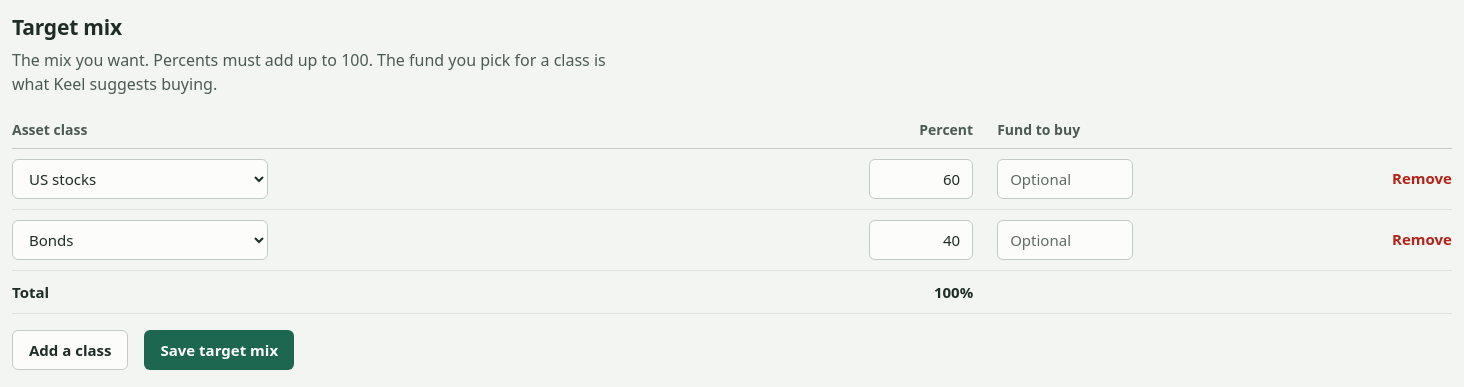
Test: TargetEditor › only lets you save when the percents add up to 100, and saves them as decimals
The width and height of the screenshot is (1464, 387).
Later steps or results of the test are not shown.
Replace the text in the field named "Percent for Bonds" with "30" at (921, 240), box [869,220,973,260]
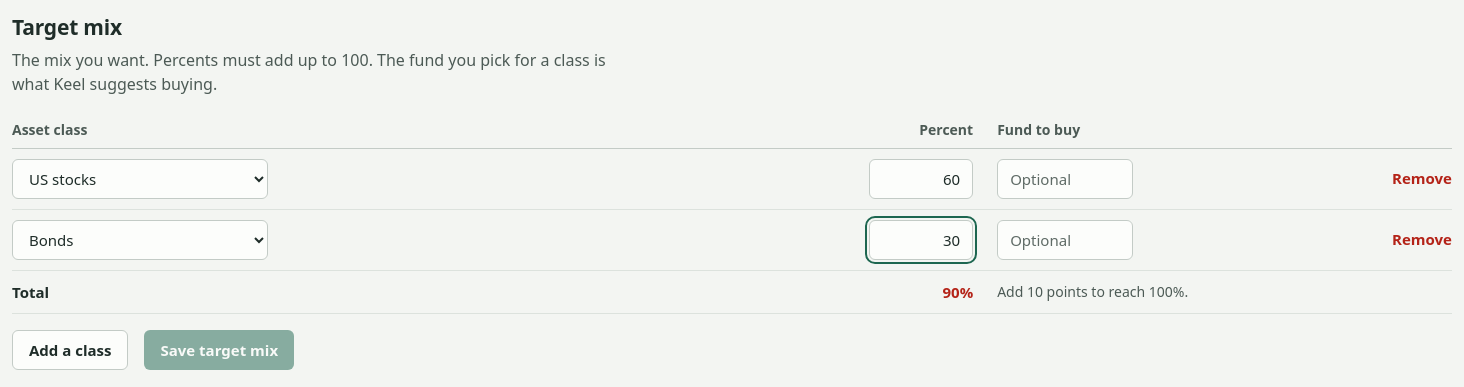
Check: the button "Save target mix" is disabled, box [144,330,294,370]
Check: the text "90%" is shown, box [857,270,985,314]
Check: the text "Add 10 points to reach 100%." is shown, box [985,270,1452,314]
Replace the text in the field named "Percent for Bonds" with "40" at (921, 240), box [869,220,973,260]
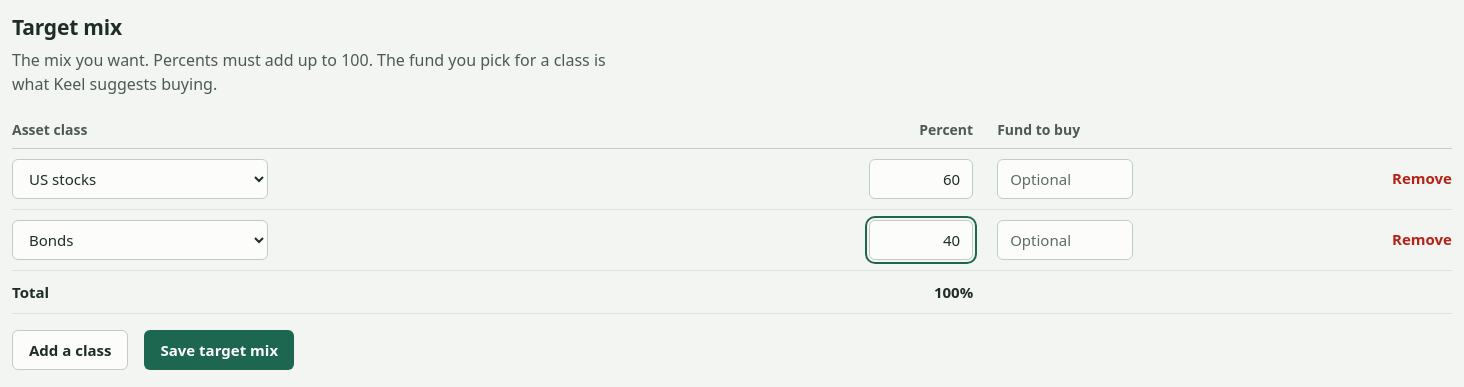
Check: the button "Save target mix" is enabled, box [144,330,294,370]
